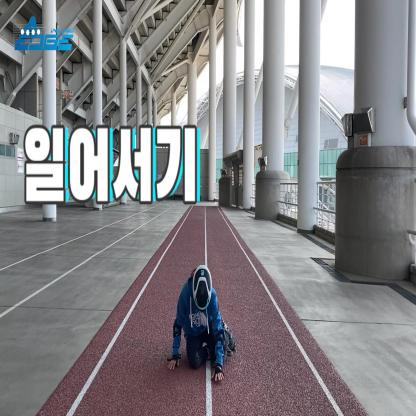Fall_Down: (169, 264, 236, 382)
